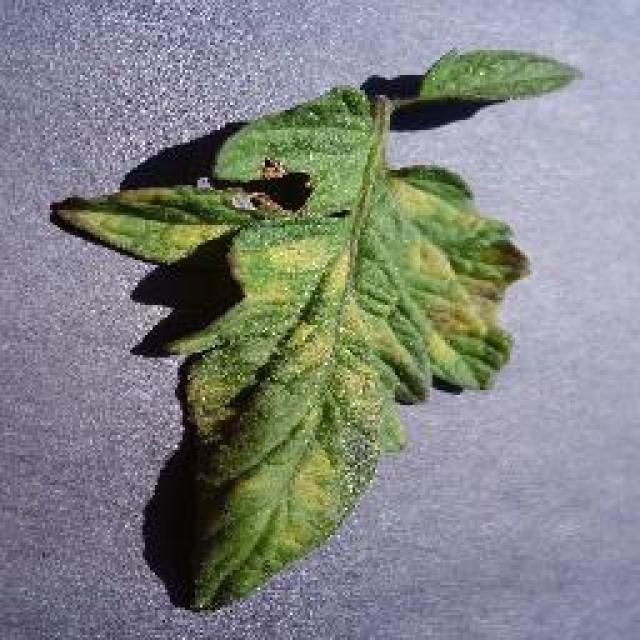leaf mold: (52, 49, 573, 611)
